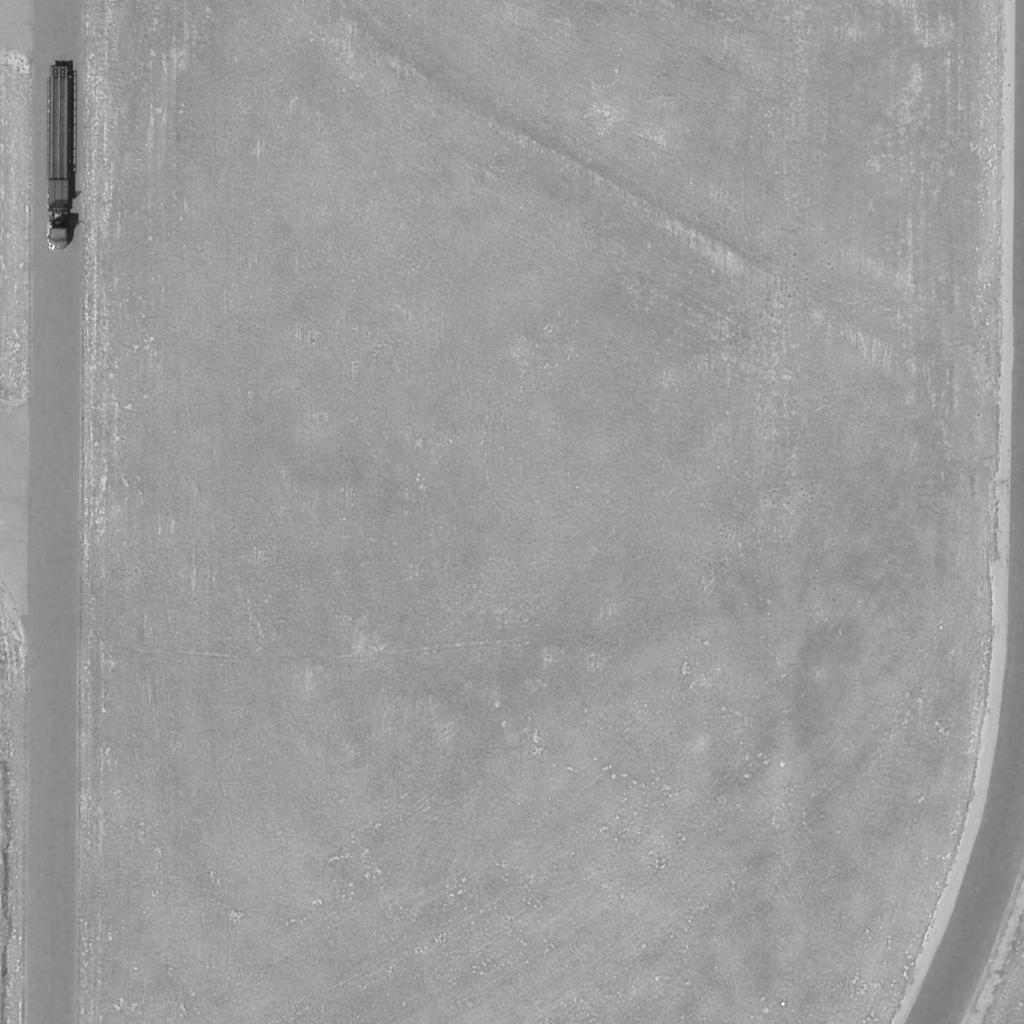vehicle: (44, 67, 78, 251)
